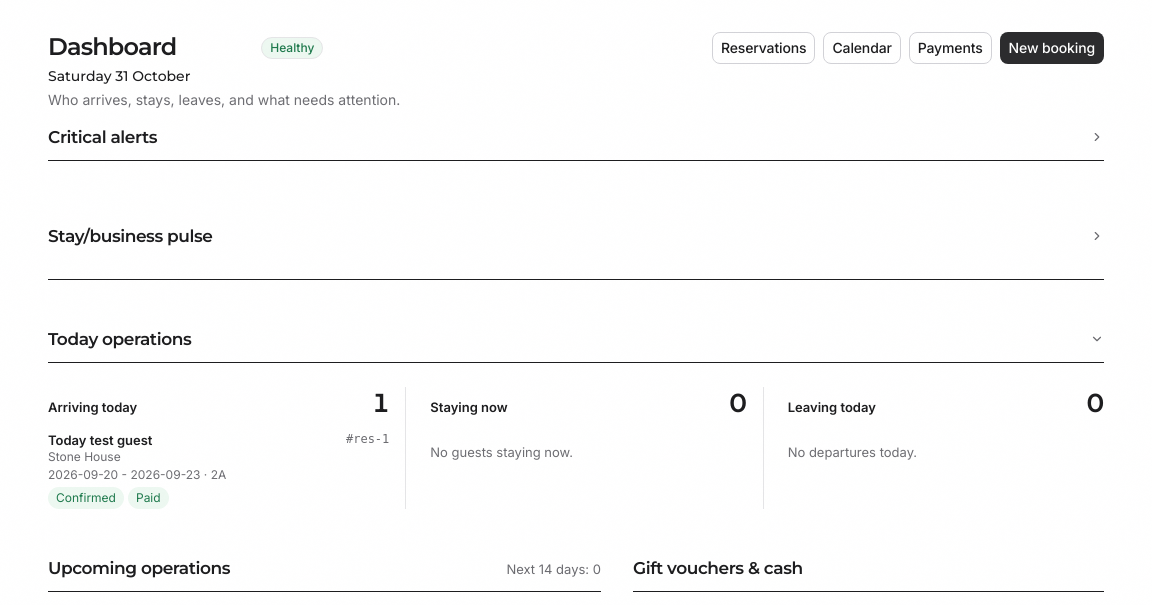
OpsDashboard home migration › uses the requested disclosure defaults and toggles sections independently
The image size is (1152, 605).
Expected: the button "Today operations" is shown, [48, 328, 1104, 363]
Expected: the text "Critical test alert" is not shown
Click the button "Critical alerts".
click(103, 137)  # box [48, 126, 1104, 161]
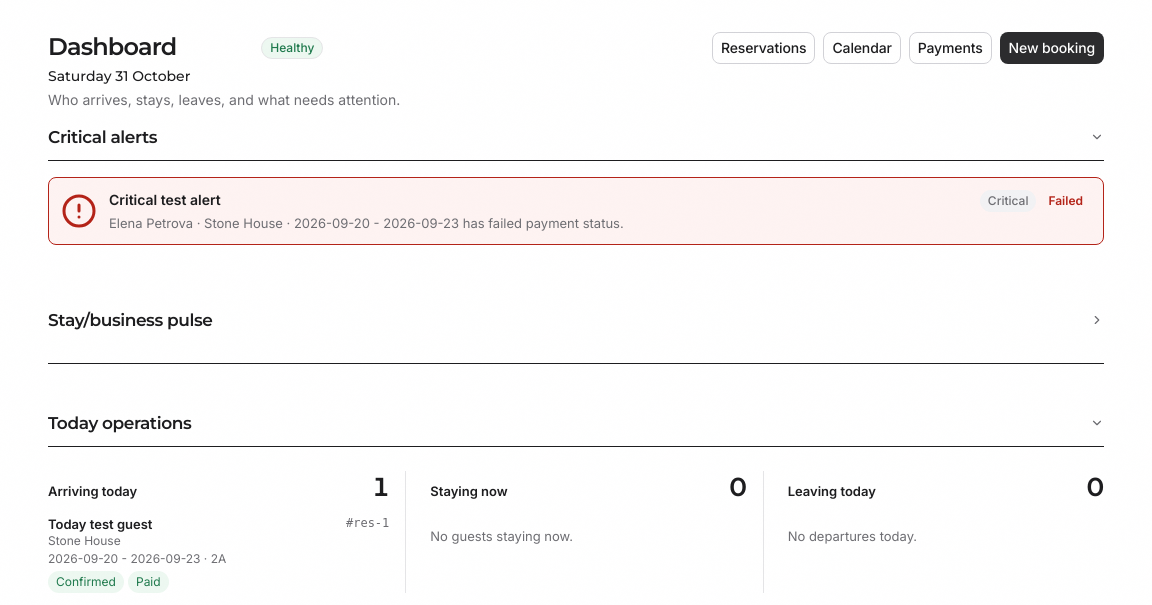
Click the button "Stay/business pulse".
click(130, 320)  # box [48, 309, 1104, 331]
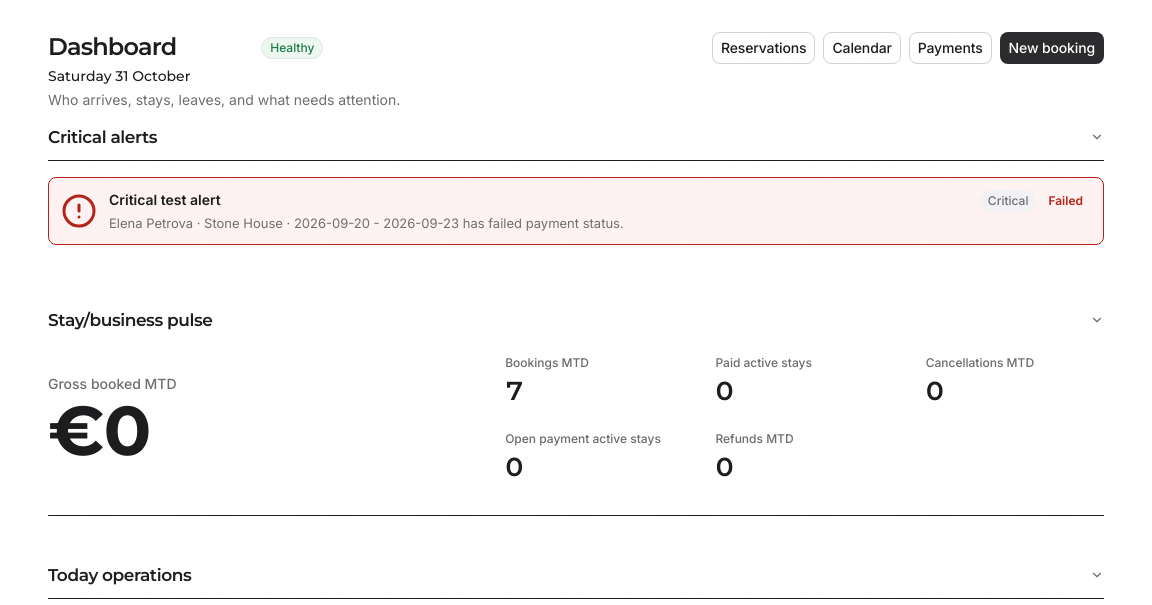
Result: the button "Critical alerts" is expanded at [48, 126, 1104, 161]
Result: the text "Critical test alert" is shown at [109, 191, 221, 208]
Result: the button "Stay/business pulse" is expanded at [48, 309, 1104, 331]
Click the button "Today operations".
click(120, 575)  # box [48, 564, 1104, 599]
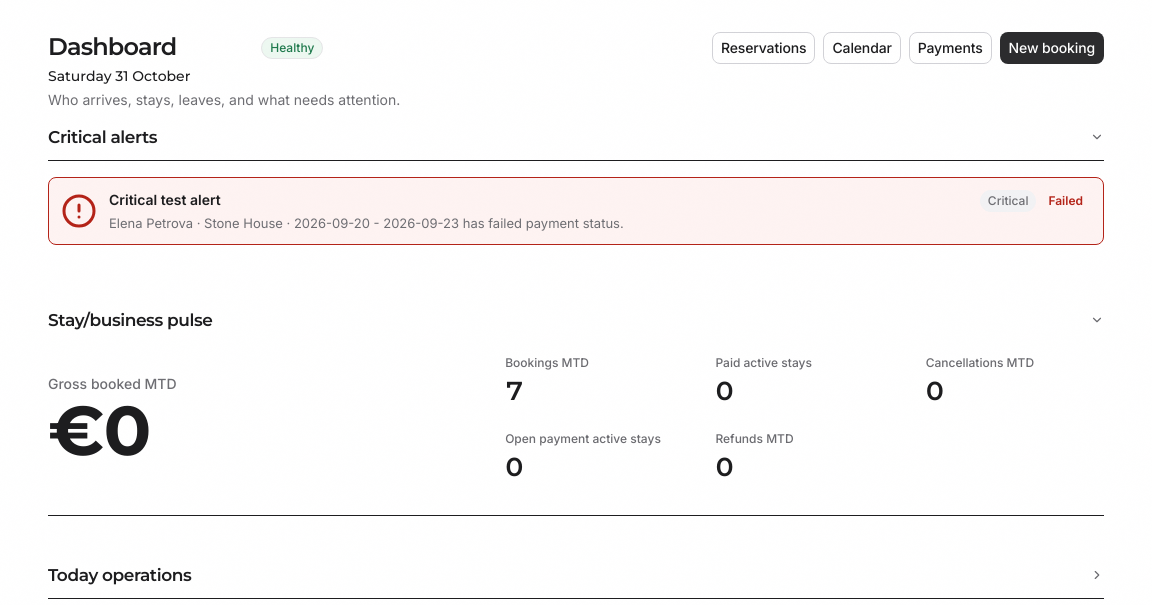
Result: the button "Critical alerts" is expanded at [48, 126, 1104, 161]
Result: the button "Stay/business pulse" is expanded at [48, 309, 1104, 331]
Result: the button "Today operations" is collapsed at [48, 564, 1104, 599]
